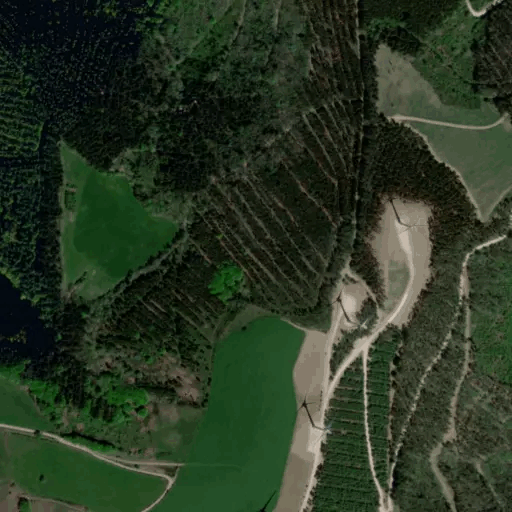wt: (368, 170, 428, 242), (292, 388, 346, 454), (320, 284, 378, 340)
